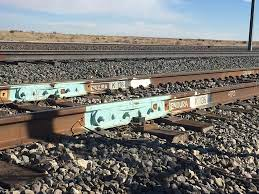insulated joint: (84, 96, 166, 133), (8, 80, 87, 103)
